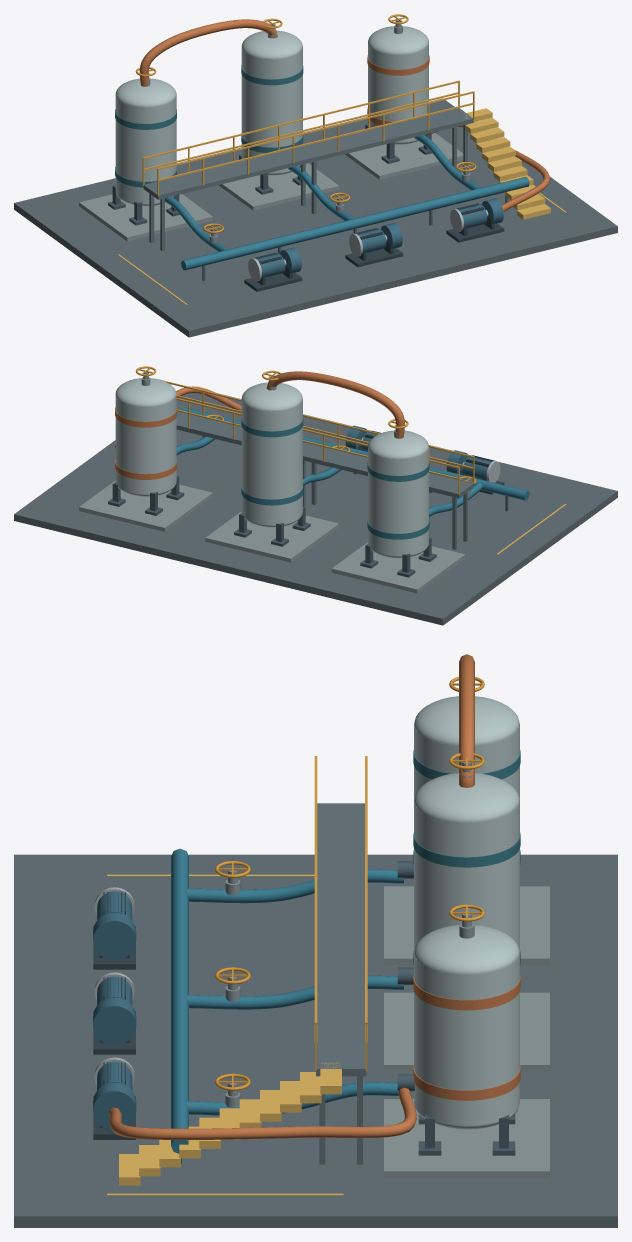
Rendered from pipePlant.glb.
3 renders of one model, top to bottom at view 1: azimuth 30°, elevation 25°; view 2: azimuth 150°, elevation 25°; view 3: azimuth 270°, elevation 25°, orthographic. The views are drawn at different scales.
Parts seen in each view (by area): view 1: pipePlant/foundation, pipePlant/serviceDeck/deck, pipePlant/tankB/body, pipePlant/tankA/body, pipePlant/supplyHeader, pipePlant/tankC/body, pipePlant/pads/0, pipePlant/pads/2, pipePlant/pads/1, pipePlant/overheadTransfer, pipePlant/tankA/top, pipePlant/tankC/top (+14 smaller); view 2: pipePlant/foundation, pipePlant/tankB/body, pipePlant/tankA/body, pipePlant/tankC/body, pipePlant/pads/0, pipePlant/serviceDeck/deck, pipePlant/pads/2, pipePlant/pads/1, pipePlant/overheadTransfer, pipePlant/tankC/top, pipePlant/tankB/top, pipePlant/tankA/top (+14 smaller); view 3: pipePlant/foundation, pipePlant/tankC/body, pipePlant/serviceDeck/deck, pipePlant/tankB/body, pipePlant/pads/2, pipePlant/supplyHeader, pipePlant/pads/0, pipePlant/pads/1, pipePlant/returnLoop, pipePlant/tankC/top, pipePlant/tankB/top, pipePlant/tankA/top (+13 smaller).
Boxes of the visible parts, x1=… form: pipePlant/foundation: x1=14, y1=98, x2=617, y2=337; pipePlant/serviceDeck/deck: x1=143, y1=108, x2=473, y2=199; pipePlant/tankB/body: x1=241, y1=46, x2=302, y2=172; pipePlant/tankA/body: x1=115, y1=93, x2=176, y2=203; pipePlant/supplyHeader: x1=181, y1=177, x2=529, y2=270; pipePlant/tankC/body: x1=368, y1=44, x2=428, y2=142; pipePlant/pads/0: x1=79, y1=194, x2=212, y2=241; pipePlant/pads/2: x1=345, y1=133, x2=463, y2=179; pipePlant/pads/1: x1=218, y1=163, x2=339, y2=210; pipePlant/overheadTransfer: x1=139, y1=19, x2=277, y2=86; pipePlant/tankA/top: x1=115, y1=78, x2=176, y2=107; pipePlant/tankC/top: x1=368, y1=26, x2=428, y2=55; pipePlant/foundation: x1=14, y1=386, x2=617, y2=625; pipePlant/tankB/body: x1=241, y1=399, x2=302, y2=524; pipePlant/tankA/body: x1=368, y1=448, x2=428, y2=555; pipePlant/tankC/body: x1=115, y1=395, x2=176, y2=494; pipePlant/pads/0: x1=331, y1=542, x2=465, y2=593; pipePlant/serviceDeck/deck: x1=176, y1=411, x2=473, y2=498; pipePlant/pads/2: x1=79, y1=480, x2=212, y2=531; pipePlant/pads/1: x1=205, y1=511, x2=339, y2=562; pipePlant/overheadTransfer: x1=266, y1=371, x2=404, y2=438; pipePlant/tankC/top: x1=115, y1=378, x2=176, y2=407; pipePlant/tankB/top: x1=241, y1=382, x2=302, y2=411; pipePlant/tankA/top: x1=368, y1=430, x2=428, y2=459; pipePlant/foundation: x1=14, y1=854, x2=617, y2=1227; pipePlant/tankC/body: x1=414, y1=949, x2=519, y2=1125; pipePlant/serviceDeck/deck: x1=316, y1=803, x2=366, y2=1076; pipePlant/tankB/body: x1=414, y1=797, x2=519, y2=952; pipePlant/pads/2: x1=384, y1=1099, x2=549, y2=1177; pipePlant/supplyHeader: x1=171, y1=848, x2=188, y2=1153; pipePlant/pads/0: x1=384, y1=886, x2=549, y2=965; pipePlant/pads/1: x1=384, y1=992, x2=549, y2=1071; pipePlant/returnLoop: x1=109, y1=1087, x2=416, y2=1139; pipePlant/tankC/top: x1=414, y1=925, x2=519, y2=974; pipePlant/tankB/top: x1=414, y1=773, x2=519, y2=822; pipePlant/tankA/top: x1=414, y1=696, x2=519, y2=746.
Size of the model in its own units: 17 by 6.8 by 12.
